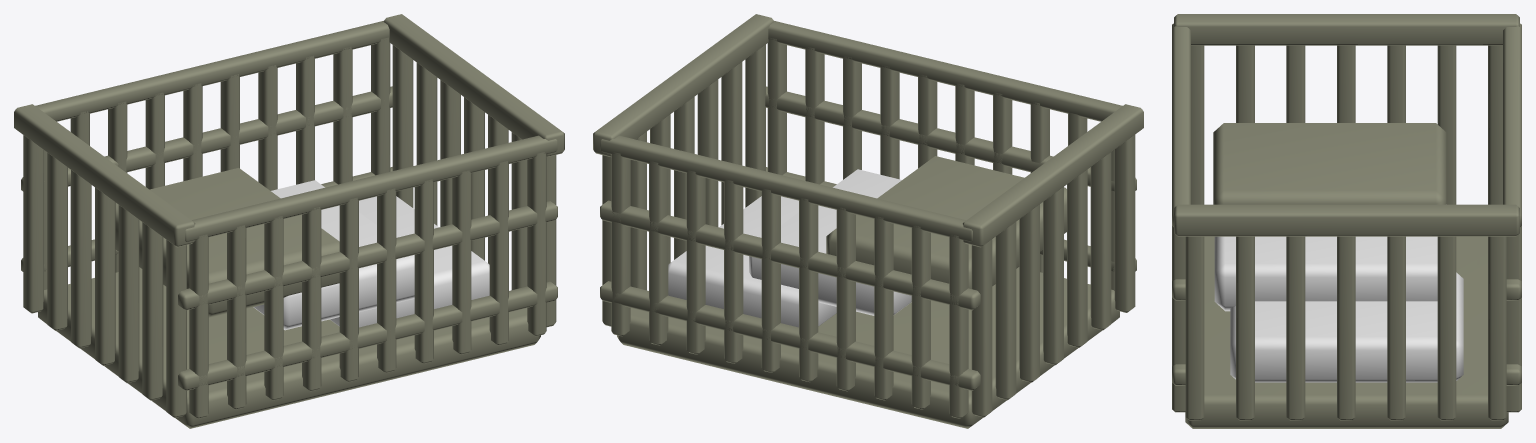
Rendered from LaundryBasket02.fbx.
The picture shows the model from 3 angles, left to right: view 1: azimuth 30°, elevation 25°; view 2: azimuth 150°, elevation 25°; view 3: azimuth 270°, elevation 25°; orthographic projection. The views are drawn at different scales.
Visible parts, largest first — view 1: LaundryBasket02; view 2: LaundryBasket02; view 3: LaundryBasket02.
Part boxes in pixels (left/top/right/bottom): LaundryBasket02: left=14, top=14, right=564, bottom=428; LaundryBasket02: left=593, top=14, right=1143, bottom=428; LaundryBasket02: left=1172, top=14, right=1521, bottom=428.
Size of the model in its own units: 63.5 by 33.25 by 46.5.
